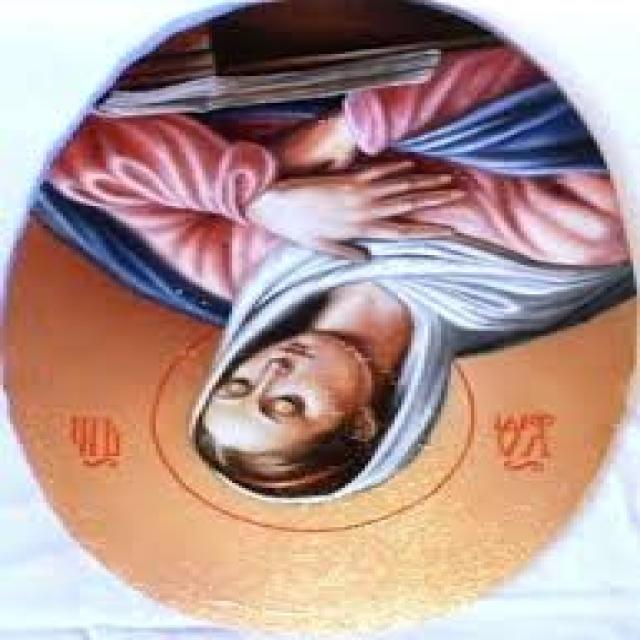mother of god: (33, 0, 637, 515)
